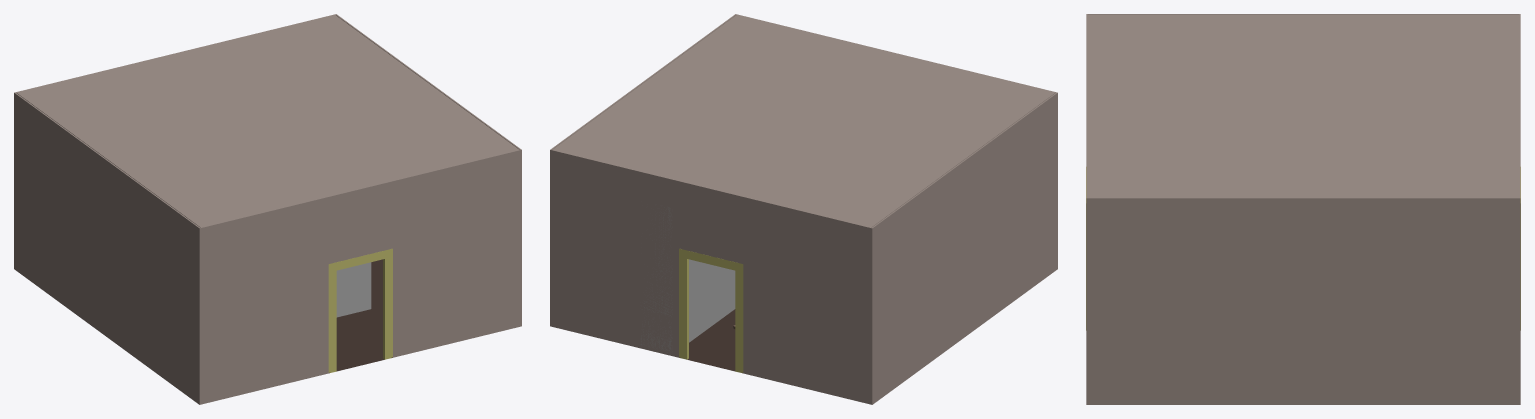
The model's file is Room08_Catacombs.fbx.
3 views of the same model, side by side, from view 1: azimuth 30°, elevation 25°; view 2: azimuth 150°, elevation 25°; view 3: azimuth 270°, elevation 25° (orthographic). The views are drawn at different scales.
Parts seen in each view (by area): view 1: Roof, WallSlicedPosZ, WallPosX, WallSlicedPosZ12, WallPosX21, Floor, DoorFramePosZ, pCube62, WallNegX; view 2: Roof, WallSlicedNegZ, WallPosX, WallSlicedNegZ7, WallPosX21, pCube65, DoorFrameNegZ, Floor, WallNegX; view 3: Roof, WallNegX, WallNegX11, WallPosX.
Part boxes in pixels (x1=…): Roof: x1=17, y1=15, x2=518, y2=227; WallSlicedPosZ: x1=199, y1=149, x2=521, y2=364; WallPosX: x1=14, y1=92, x2=200, y2=364; WallSlicedPosZ12: x1=200, y1=286, x2=521, y2=404; WallPosX21: x1=14, y1=229, x2=201, y2=404; Floor: x1=329, y1=259, x2=392, y2=373; DoorFramePosZ: x1=328, y1=248, x2=392, y2=372; pCube62: x1=336, y1=262, x2=371, y2=317; WallNegX: x1=336, y1=14, x2=521, y2=285; Roof: x1=553, y1=15, x2=1054, y2=227; WallSlicedNegZ: x1=550, y1=149, x2=871, y2=364; WallPosX: x1=871, y1=92, x2=1057, y2=364; WallSlicedNegZ7: x1=550, y1=286, x2=871, y2=404; WallPosX21: x1=870, y1=229, x2=1057, y2=404; pCube65: x1=640, y1=207, x2=735, y2=352; DoorFrameNegZ: x1=679, y1=248, x2=743, y2=372; Floor: x1=679, y1=309, x2=742, y2=373; WallNegX: x1=550, y1=14, x2=735, y2=285; Roof: x1=1088, y1=15, x2=1518, y2=197; WallNegX: x1=1086, y1=197, x2=1520, y2=357; WallNegX11: x1=1086, y1=357, x2=1520, y2=404; WallPosX: x1=1086, y1=14, x2=1520, y2=14.
Bounding box in the file's own units: 802 × 422 × 800.
